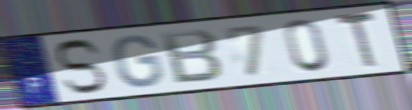0: (283, 18, 331, 74)
7: (223, 23, 267, 79)
B: (158, 27, 225, 86)
G: (111, 33, 166, 89)
S: (52, 38, 109, 96)
T: (334, 9, 379, 72)
